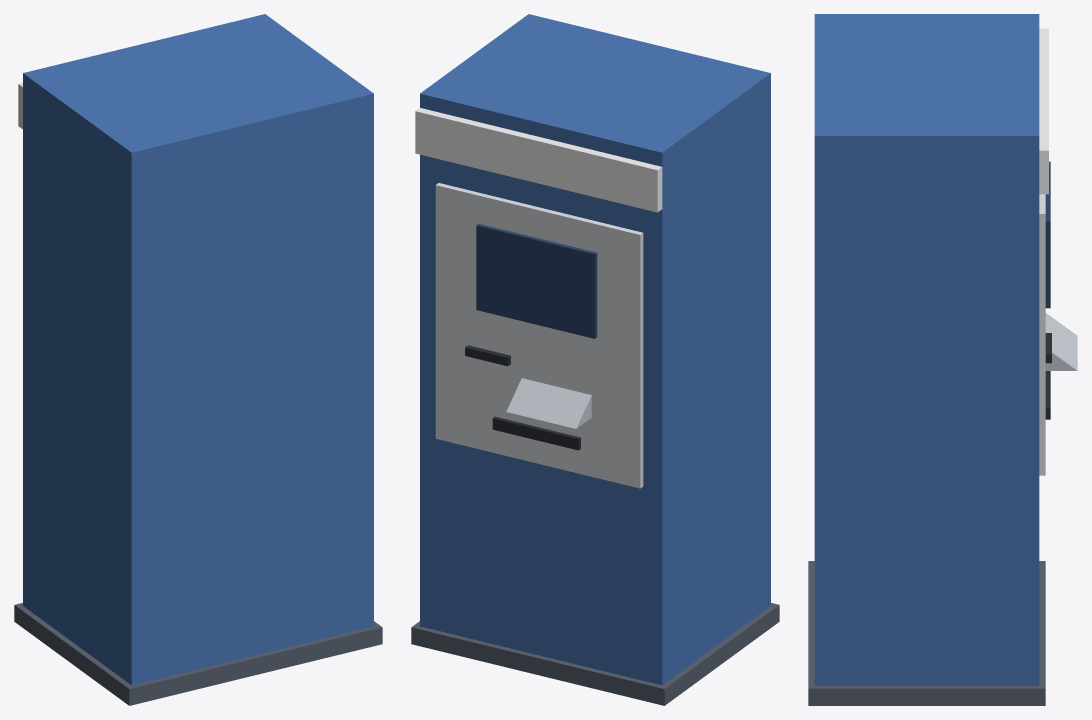
File: atm.glb
The picture shows the model from 3 angles, left to right: view 1: azimuth 30°, elevation 25°; view 2: azimuth 150°, elevation 25°; view 3: azimuth 270°, elevation 25°; orthographic projection. The views are drawn at different scales.
Visible parts, largest first — view 1: Body; view 2: Body; view 3: Body.
Boxes of the visible parts, box(x1,y1,x2,y2) form: Body: box(14, 14, 382, 705); Body: box(411, 14, 779, 705); Body: box(808, 14, 1077, 705).
Size of the model in its own units: 0.94 by 1.95 by 0.84.
